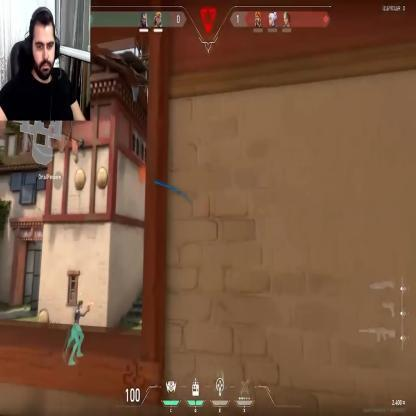Valorant-enemy: (136, 312, 190, 396)
